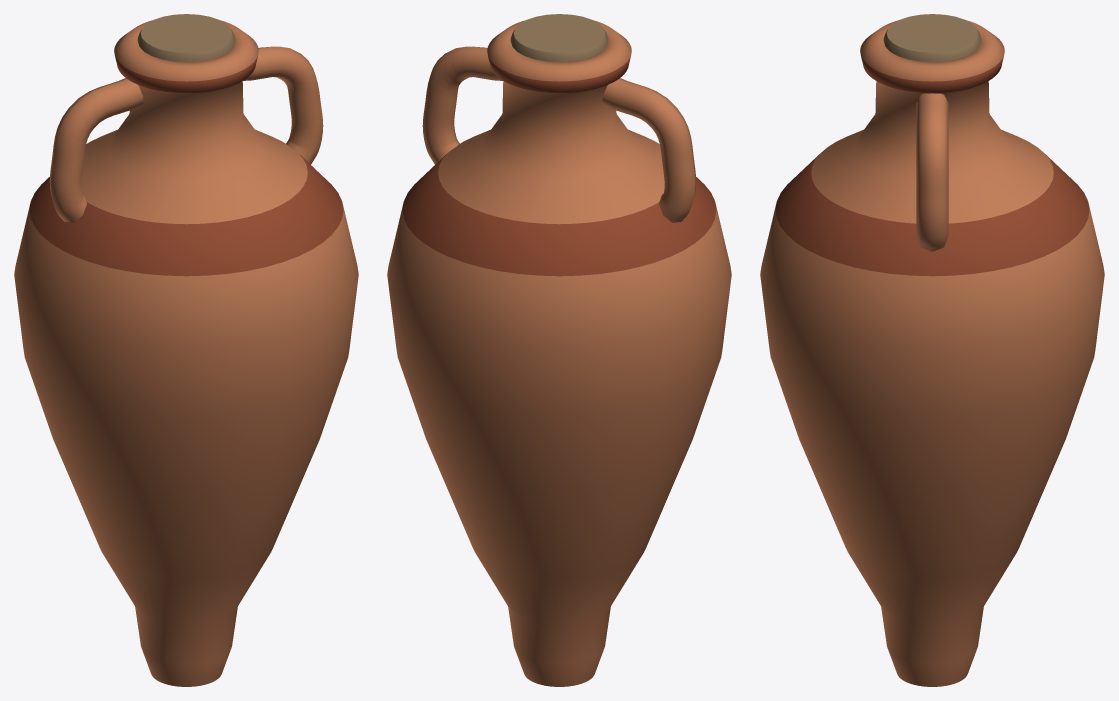
The model's file is transport_amphora.glb.
3 renders of one model, left to right at view 1: azimuth 30°, elevation 25°; view 2: azimuth 150°, elevation 25°; view 3: azimuth 270°, elevation 25°, orthographic.
Parts seen in each view (by area): view 1: Storage amphora, Pulled clay handle, Pulled clay handle.001, Stopper; view 2: Storage amphora, Pulled clay handle, Pulled clay handle.001, Stopper; view 3: Storage amphora, Pulled clay handle.001, Stopper.
Part boxes in pixels (x1,y1,x2,y2): Storage amphora: [14, 20, 358, 686]; Pulled clay handle: [49, 78, 143, 222]; Pulled clay handle.001: [243, 46, 323, 164]; Stopper: [137, 14, 235, 62]; Storage amphora: [387, 20, 731, 686]; Pulled clay handle: [602, 78, 696, 222]; Pulled clay handle.001: [422, 46, 502, 164]; Stopper: [510, 14, 608, 62]; Storage amphora: [760, 20, 1104, 686]; Pulled clay handle.001: [916, 93, 948, 251]; Stopper: [883, 14, 981, 62].
Size of the model in its own units: 0.338 by 0.691 by 0.338.
